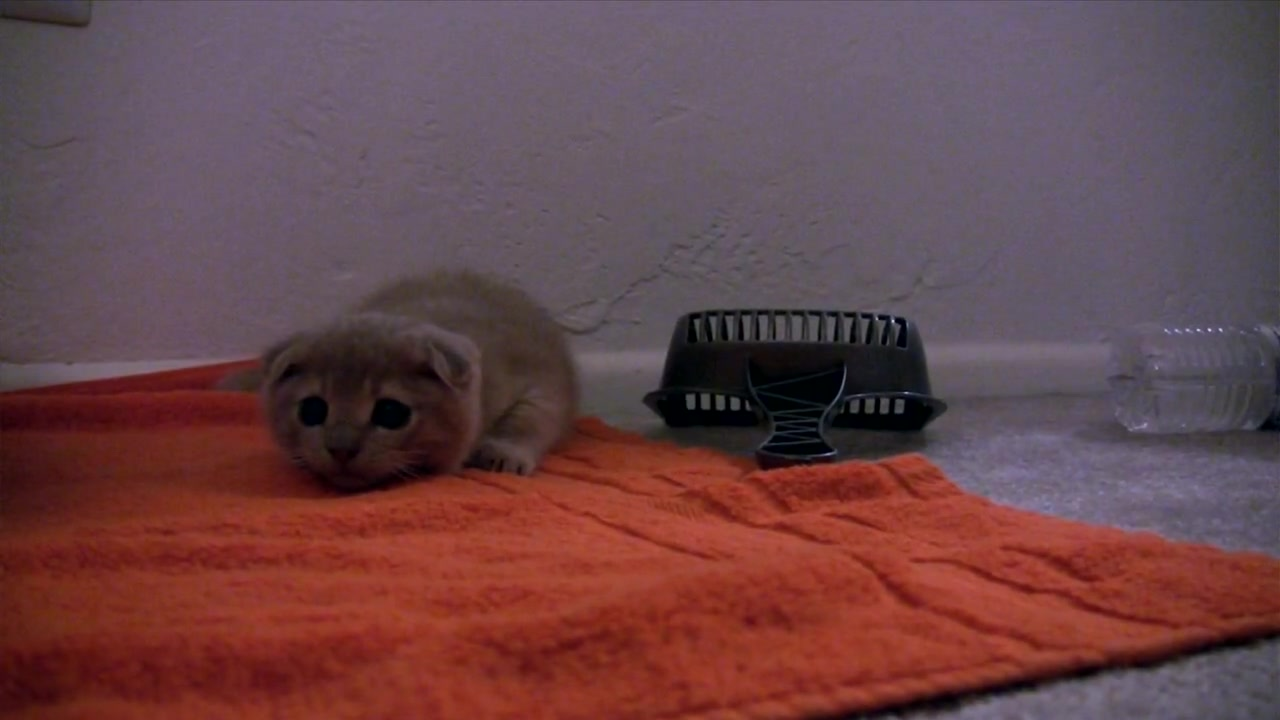cat: (227, 267, 579, 495)
